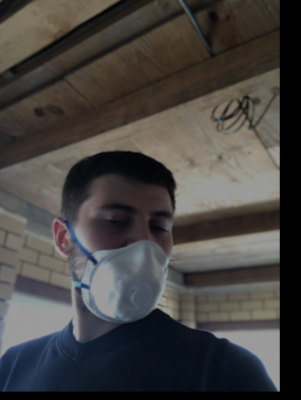with_mask: (76, 195, 173, 320)
